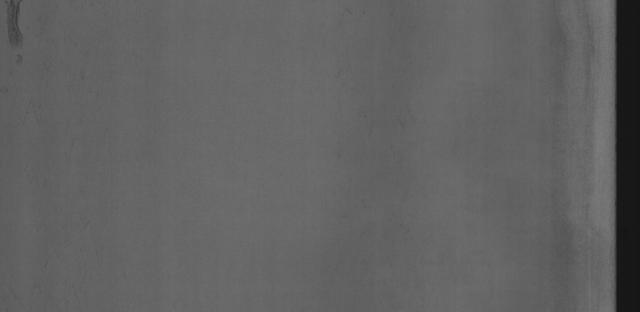water_spot: (0, 0, 50, 78)
